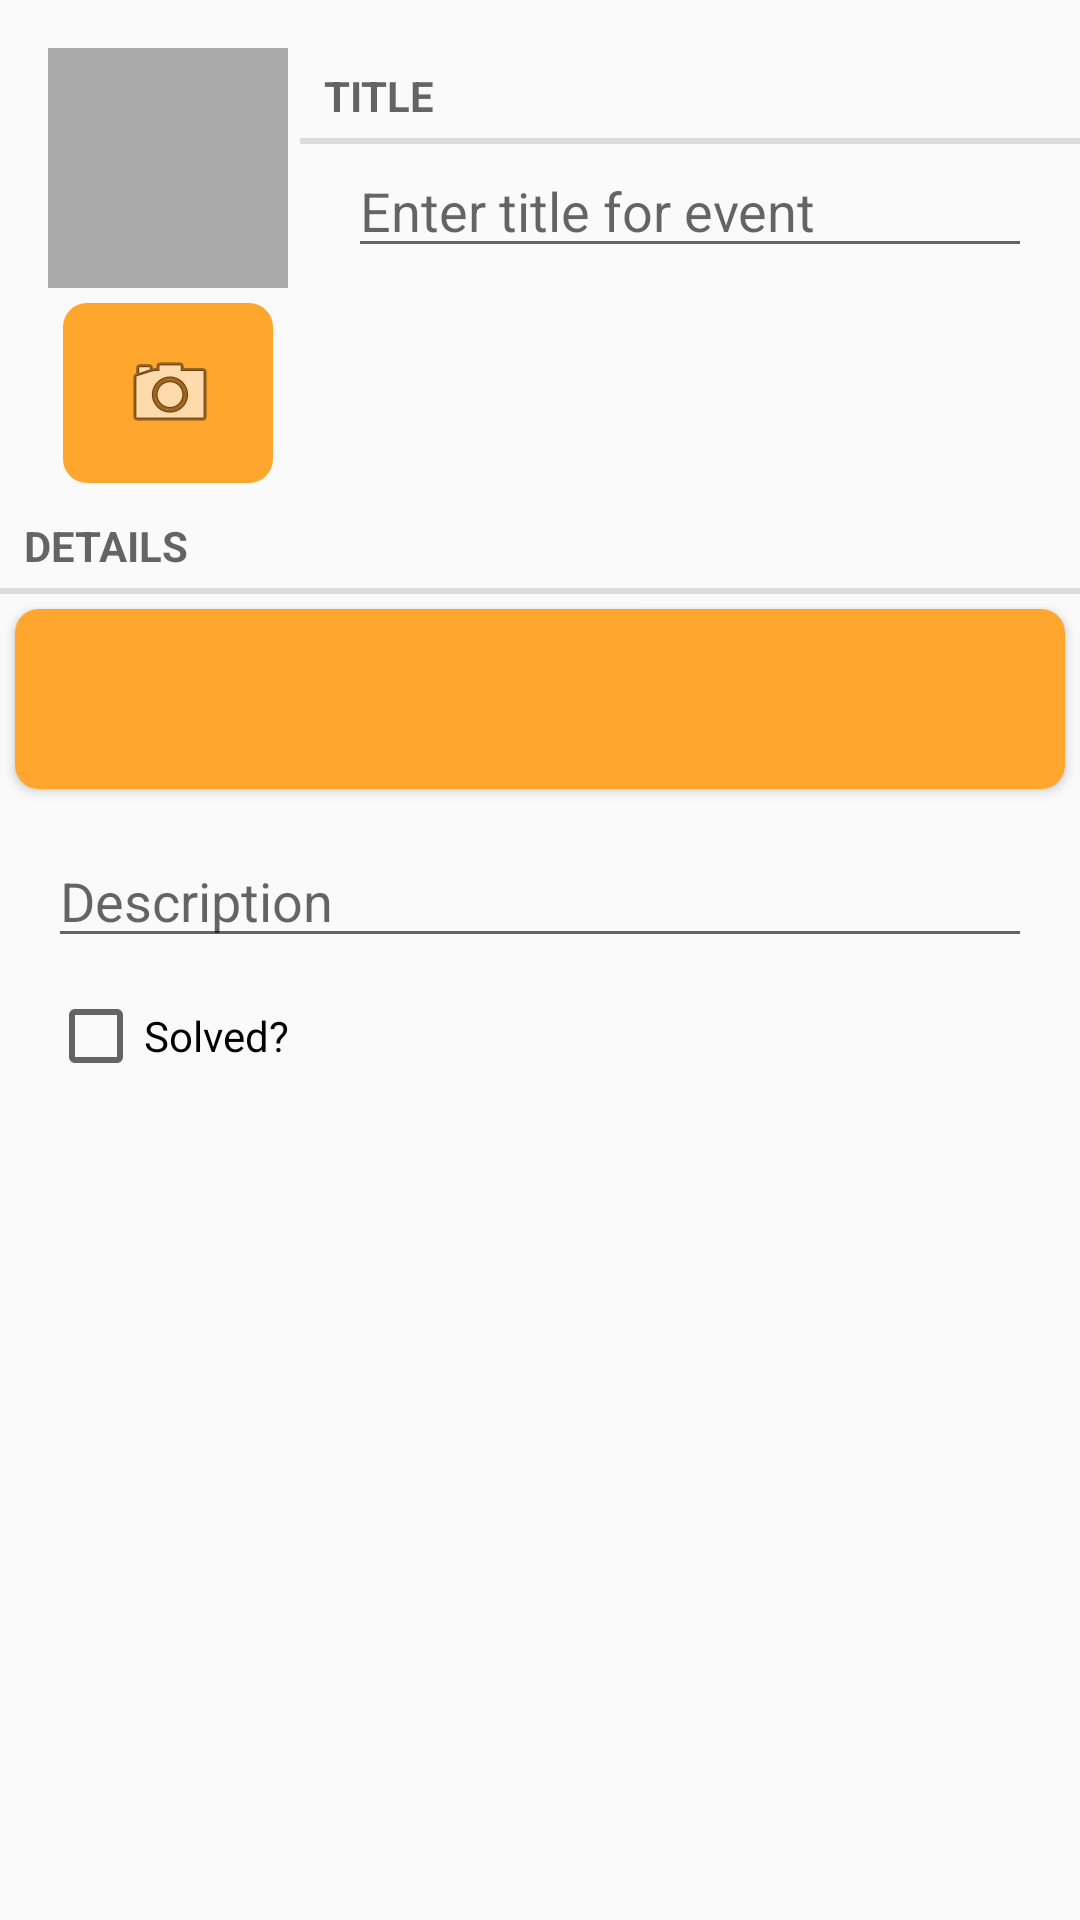

Locate icon controls on the screen. Image size 1080px×1920px, boxes as region(x1, y1, x2, y2).
camera: region(63, 303, 273, 483)
